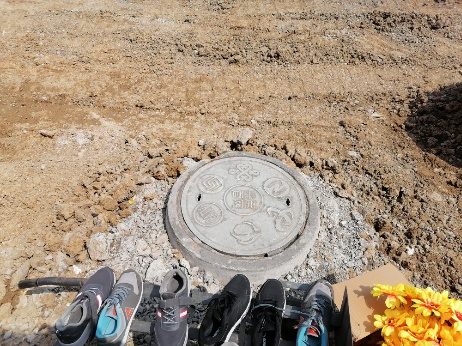good: (165, 151, 319, 269)
